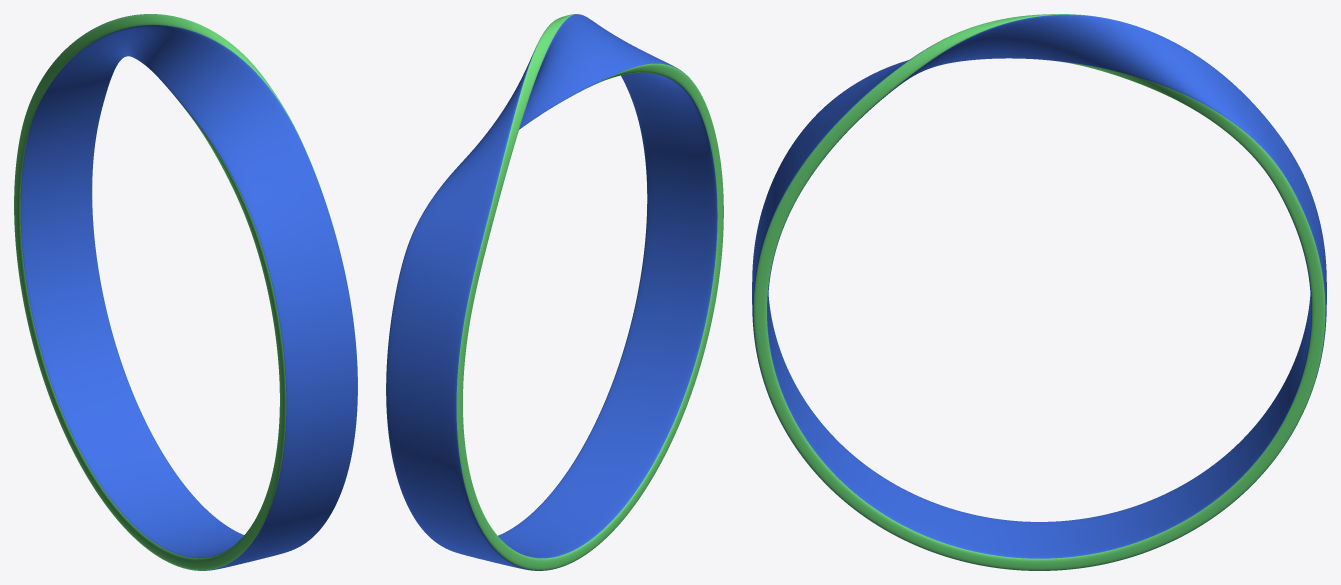
Rendered from mobiusStrip.glb.
3 views of the same model, side by side, from view 1: azimuth 30°, elevation 25°; view 2: azimuth 150°, elevation 25°; view 3: azimuth 270°, elevation 25° (orthographic). The views are drawn at different scales.
Visible parts, largest first — view 1: Circle_0; view 2: Circle_0; view 3: Circle_0.
Boxes of the visible parts, x1=… form: Circle_0: x1=14, y1=14, x2=357, y2=570; Circle_0: x1=386, y1=14, x2=723, y2=570; Circle_0: x1=752, y1=14, x2=1326, y2=570.
Size of the model in its own units: 0.3097 by 2.07 by 1.99.
